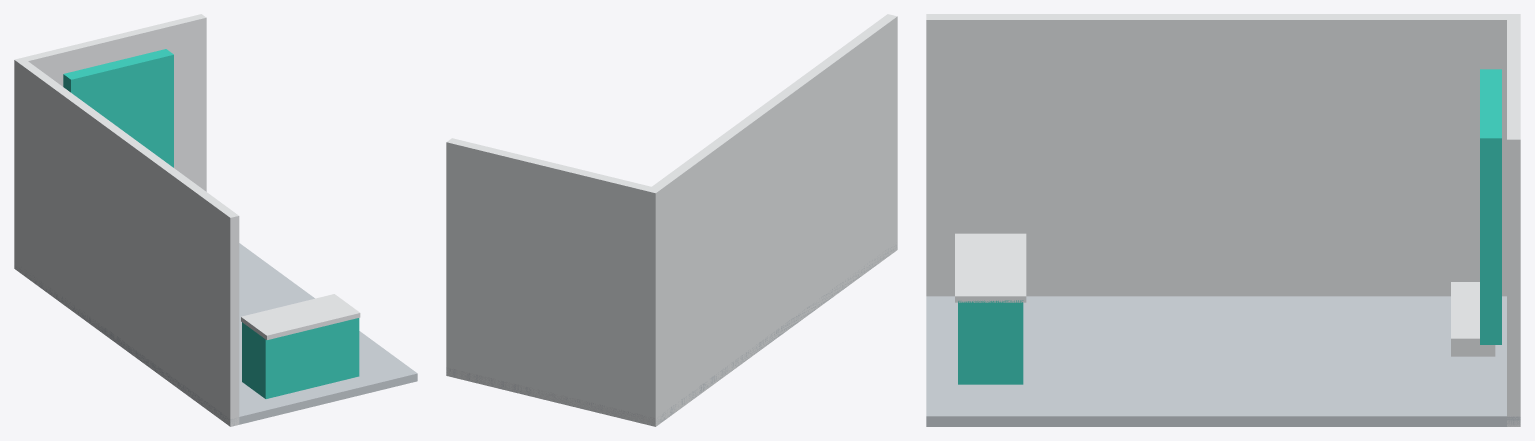
3 views of the same model, side by side, from view 1: azimuth 30°, elevation 25°; view 2: azimuth 150°, elevation 25°; view 3: azimuth 270°, elevation 25° (orthographic). The views are drawn at different scales.
Visible parts, largest first — view 1: Exhibition Booth Concept; view 2: Exhibition Booth Concept; view 3: Exhibition Booth Concept.
Part boxes in pixels (x1,y1,x2,y2): Exhibition Booth Concept: (14, 14, 417, 426); Exhibition Booth Concept: (446, 14, 897, 426); Exhibition Booth Concept: (926, 14, 1520, 426).
Size of the model in its own units: 3 by 3.2 by 6.
